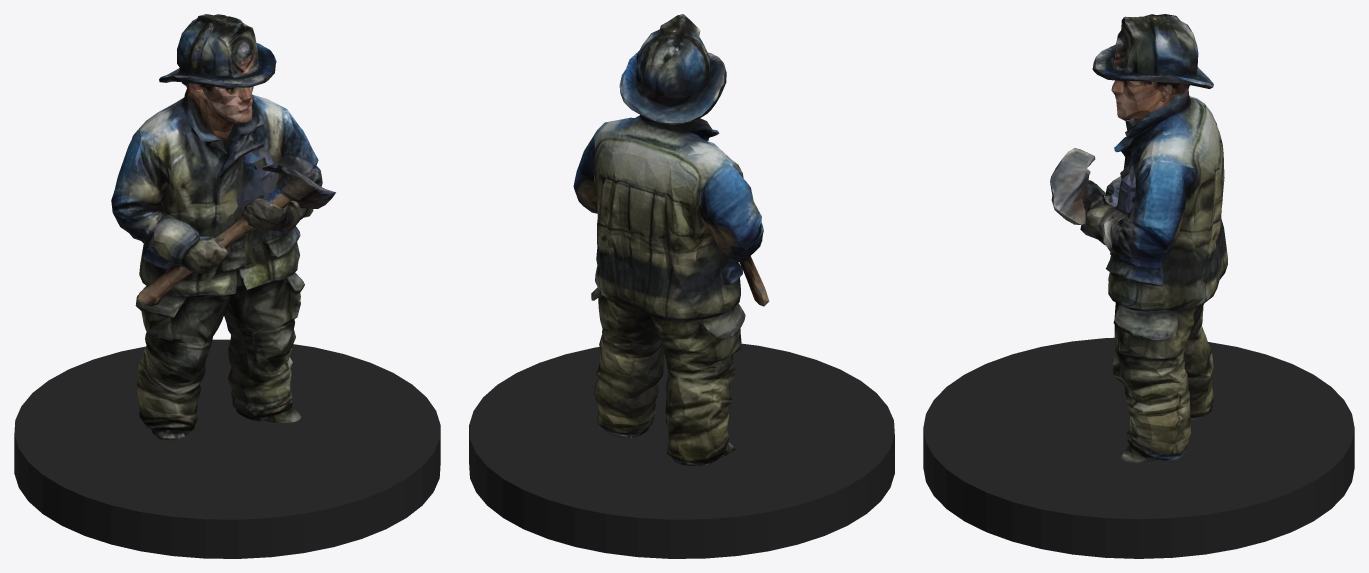
The model's file is gabriel-diaz.glb.
3 views of the same model, side by side, from view 1: azimuth 30°, elevation 25°; view 2: azimuth 150°, elevation 25°; view 3: azimuth 270°, elevation 25° (orthographic).
Visible parts, largest first — view 1: base, figure; view 2: base, figure; view 3: base, figure.
Boxes of the visible parts, x1,y1,x2,y2 form: base: (14, 339, 440, 558); figure: (111, 14, 335, 440); base: (469, 343, 894, 558); figure: (573, 14, 769, 465); base: (923, 337, 1354, 558); figure: (1050, 14, 1227, 462).
Size of the model in its own units: 1.18 by 1.37 by 1.18.
2 materials, 1 textured.
